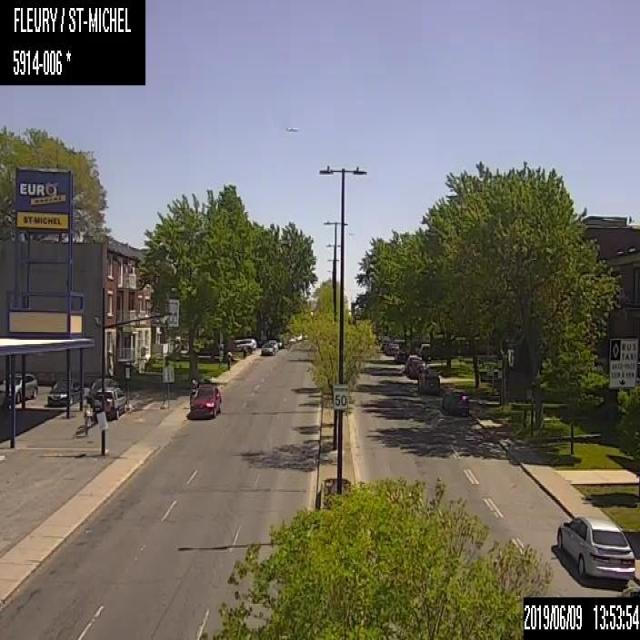pedestrian: (190, 375, 198, 398), (224, 347, 232, 369)
vehicle: (554, 516, 634, 587), (0, 371, 38, 405), (188, 380, 222, 417), (45, 374, 83, 407), (92, 386, 128, 420), (84, 376, 118, 405), (440, 389, 468, 414), (416, 369, 439, 395), (408, 360, 426, 380), (232, 338, 255, 352), (394, 348, 408, 363), (260, 342, 273, 355), (384, 342, 398, 354), (267, 338, 278, 352)
